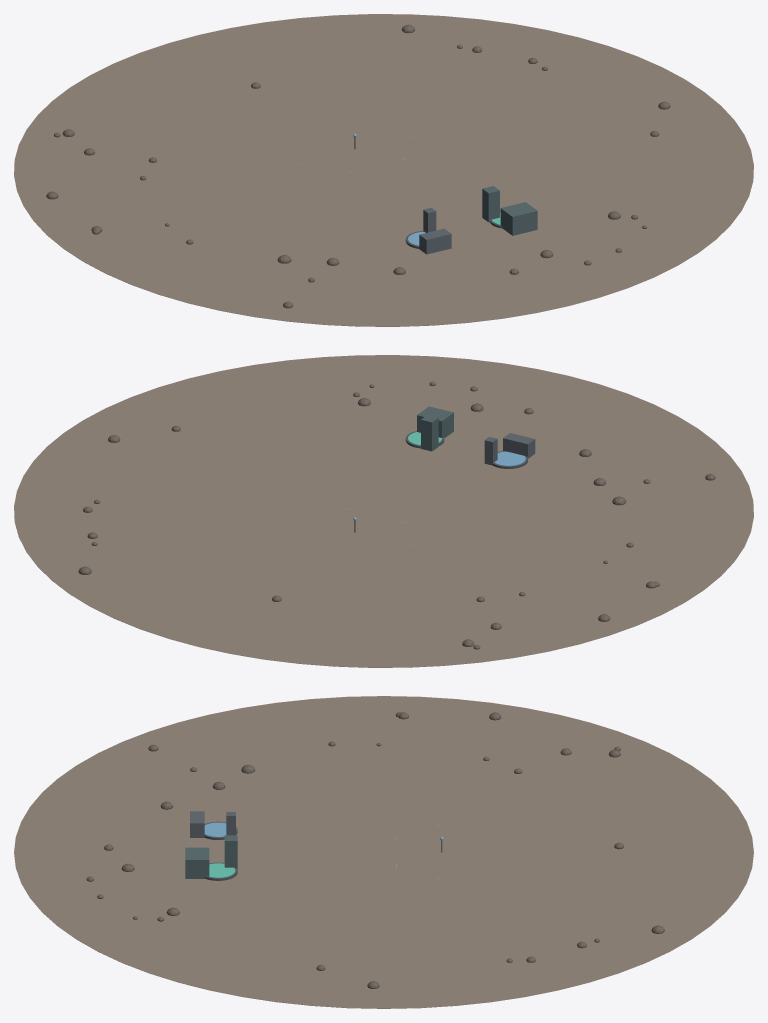
Rendered from mine_environment.glb.
3 views of the same model, one above another, from view 1: azimuth 30°, elevation 25°; view 2: azimuth 150°, elevation 25°; view 3: azimuth 270°, elevation 25° (orthographic).
Parts seen in each view (by area): view 1: geometry_0; view 2: geometry_0; view 3: geometry_0.
Part boxes in pixels (<box>): geometry_0: <box>14,14,753,326</box>; geometry_0: <box>14,355,753,667</box>; geometry_0: <box>14,696,753,1008</box>.
Size of the model in its own units: 460 by 28.98 by 460.
